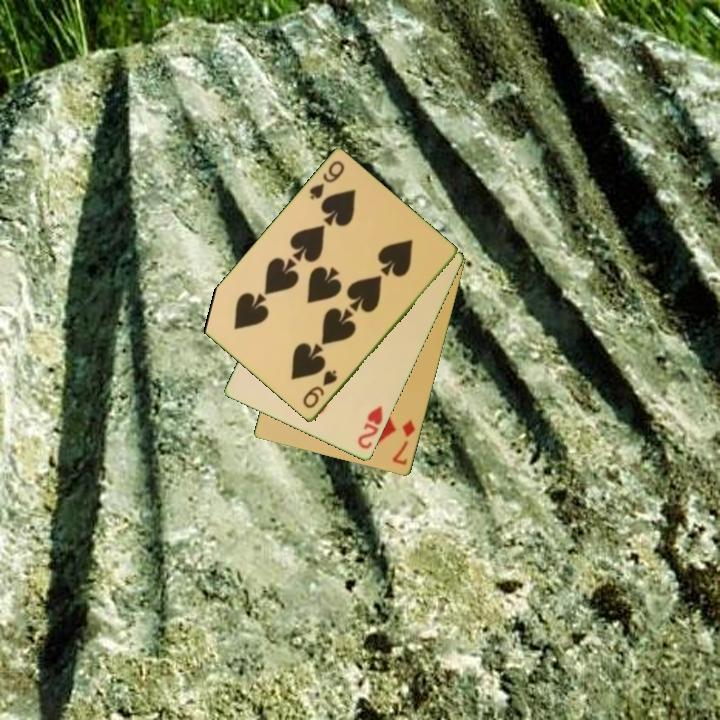2h: (354, 402, 386, 452)
7d: (389, 416, 418, 468)
9s: (306, 157, 348, 203), (299, 367, 340, 412)
